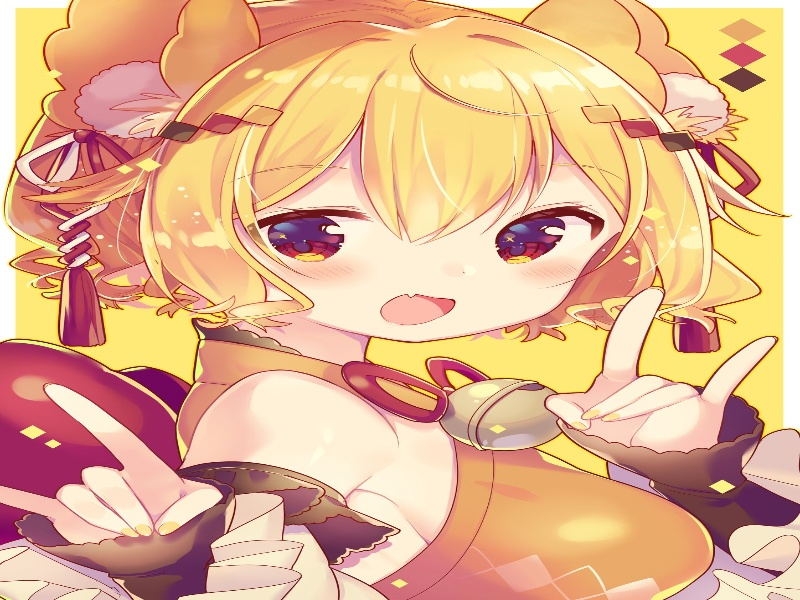person: (142, 35, 642, 362)
